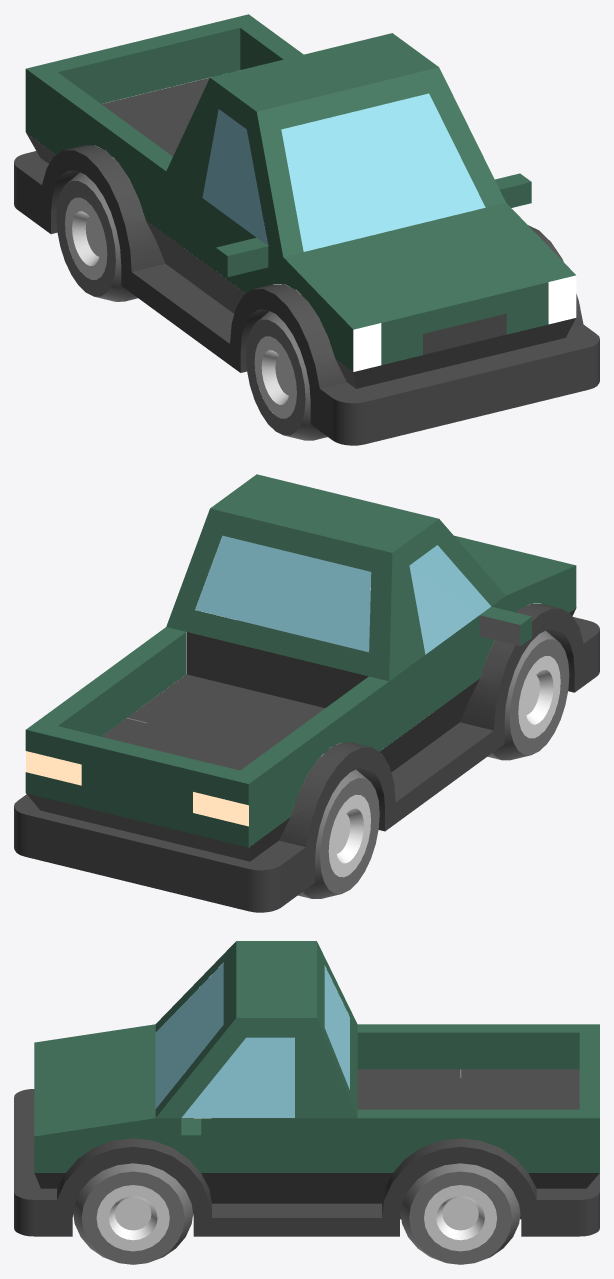
File: car2.glb
3 renders of one model, top to bottom at view 1: azimuth 30°, elevation 25°; view 2: azimuth 150°, elevation 25°; view 3: azimuth 270°, elevation 25°, orthographic. The views are drawn at different scales.
Visible parts, largest first — view 1: body, wheel_backRight, wheel_frontRight; view 2: body, wheel_frontRight, wheel_backRight; view 3: body, wheel_backLeft, wheel_frontLeft.
Part boxes in pixels (left/top/right/bottom): body: left=14, top=14, right=599, bottom=445; wheel_backRight: left=56, top=159, right=137, bottom=301; wheel_frontRight: left=246, top=302, right=327, bottom=440; body: left=14, top=474, right=599, bottom=912; wheel_frontRight: left=486, top=630, right=569, bottom=760; wheel_backRight: left=298, top=757, right=379, bottom=898; body: left=14, top=941, right=599, bottom=1236; wheel_backLeft: left=400, top=1163, right=520, bottom=1264; wheel_frontLeft: left=73, top=1163, right=192, bottom=1264.
Size of the model in its own units: 1.5 by 1.3 by 2.9.
